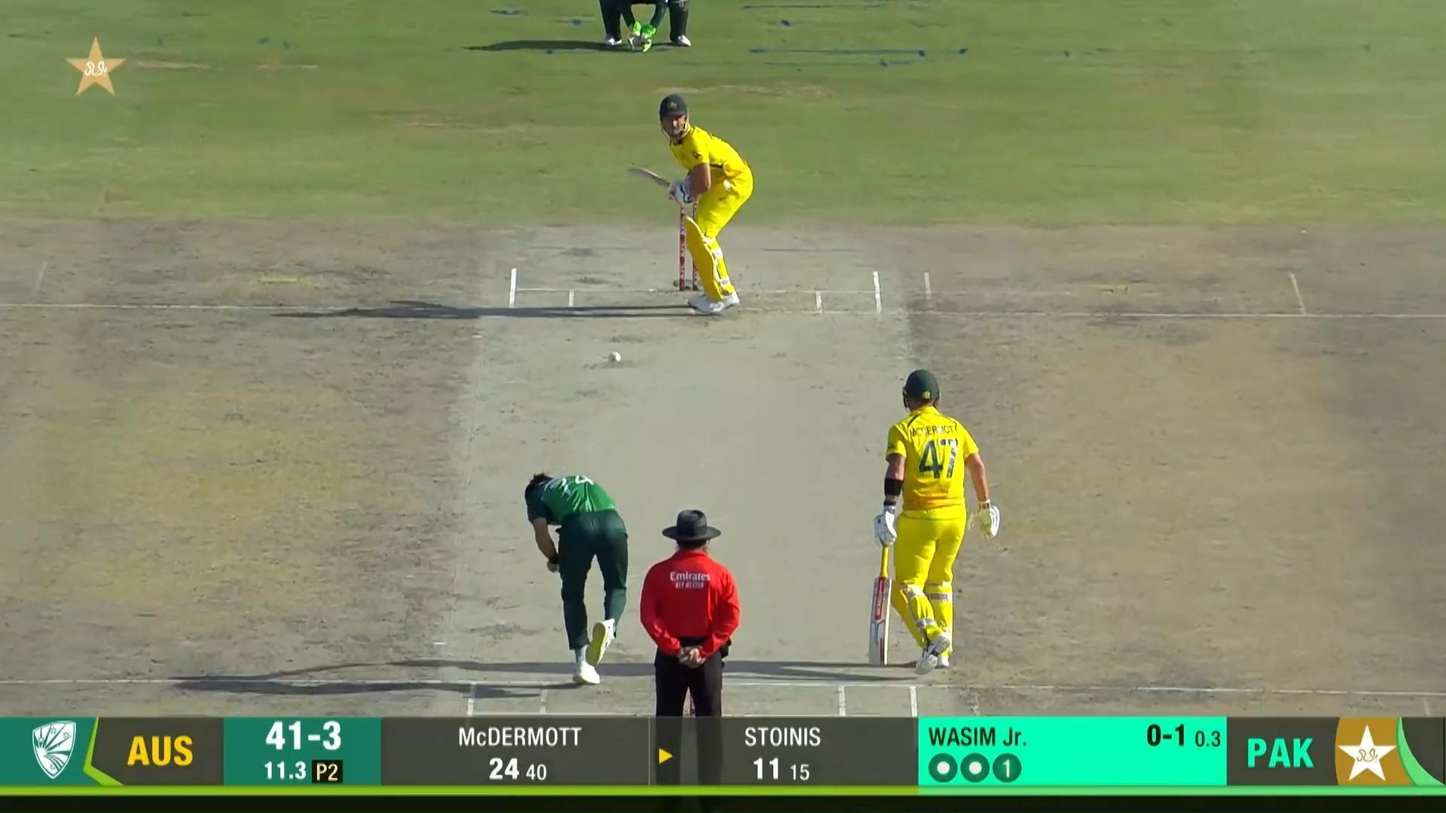BM 1: (627, 94, 754, 316)
BO: (524, 472, 627, 685)
